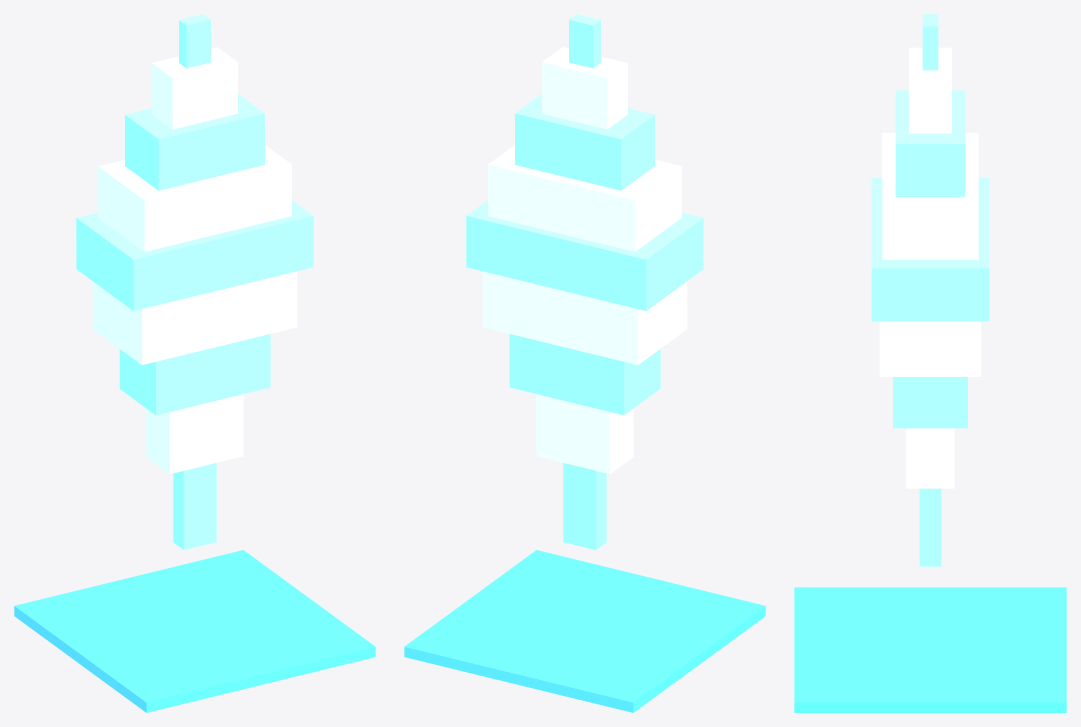
Rendered from dba-big-crystal.glb.
3 renders of one model, left to right at view 1: azimuth 30°, elevation 25°; view 2: azimuth 150°, elevation 25°; view 3: azimuth 270°, elevation 25°, orthographic. The views are drawn at different scales.
Visible parts, largest first — view 1: box-prop; view 2: box-prop; view 3: box-prop.
Part boxes in pixels (x1,y1,x2,y2): box-prop: [14, 14, 375, 712]; box-prop: [404, 14, 765, 712]; box-prop: [794, 14, 1066, 712].
Size of the model in its own units: 1.4 by 3.6 by 1.4.
